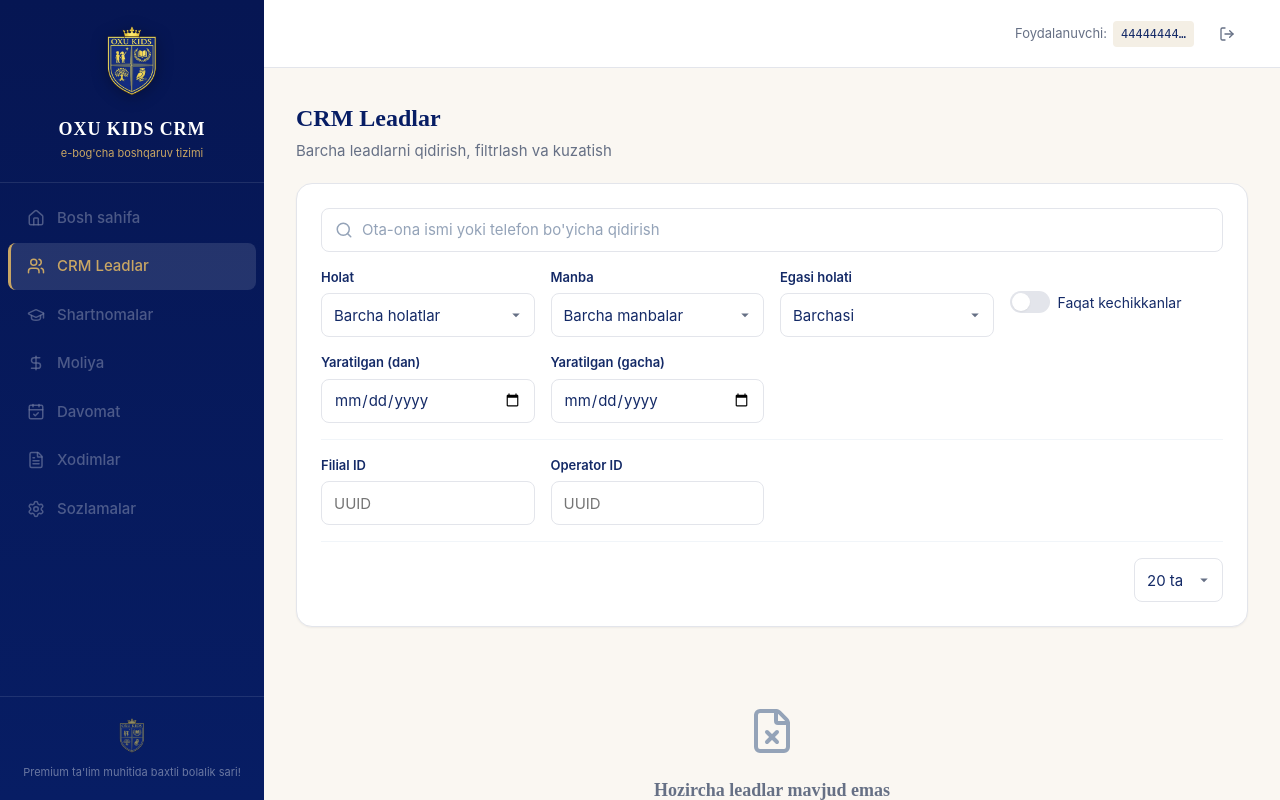
Scenario: Search input debounce and API requests › input " a " is treated as a trimmed one-character query
expect the text "CRM Leadlar" is shown: met, box [57,255,149,278]
Type " a " into the field with placeholder "Ota-ona ismi yoki telefon bo'yicha qidirish". click: x=772, y=230
box: [321,208,1223,252]
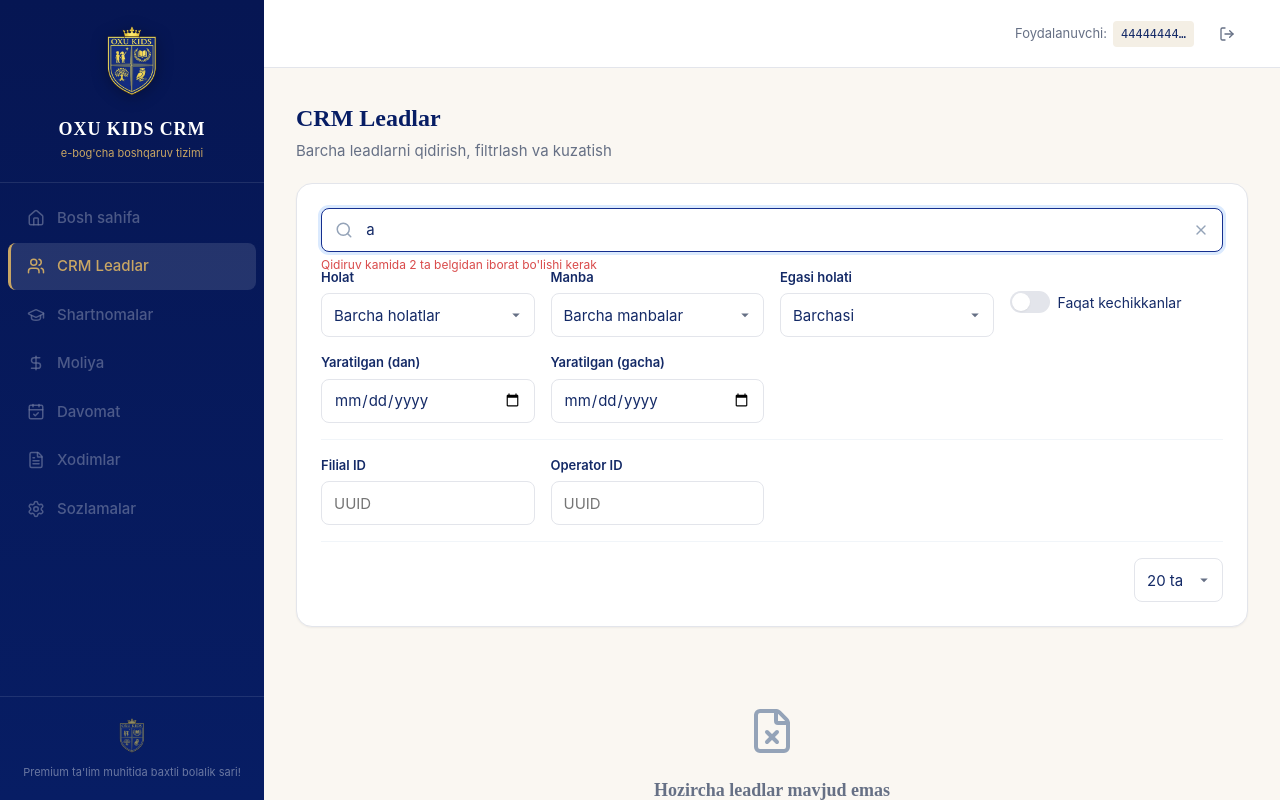
expect the text "Qidiruv kamida 2 ta belgidan iborat bo'lishi kerak" is shown: met, box [321,256,597,274]
